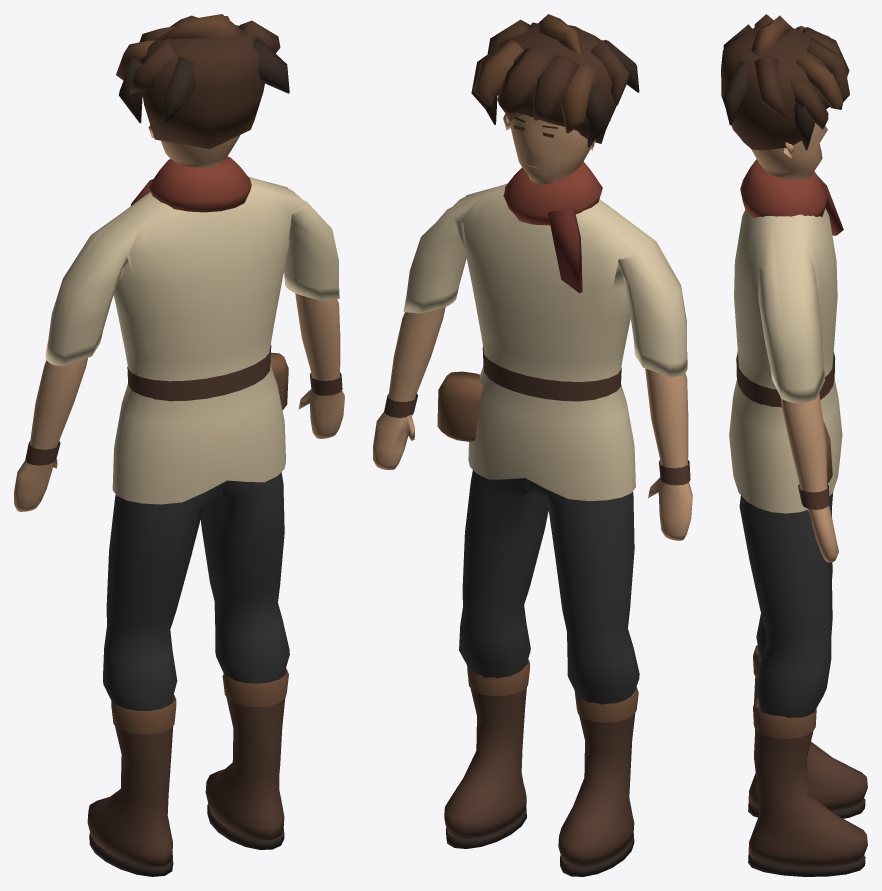
Rendered from adventurer_blockout.glb.
3 views of the same model, side by side, from view 1: azimuth 30°, elevation 25°; view 2: azimuth 150°, elevation 25°; view 3: azimuth 270°, elevation 25° (orthographic). The views are drawn at different scales.
Visible parts, largest first — view 1: Tunic_shoulders_sleeves_CONTINUOUS, Trousers_seat_crotch_legs_CONTINUOUS, Hair_main_mass, Boot_main_-1, Boot_main_1, Forearm_hand_-1, Forearm_hand_1, Scarf_wrap_BLOCKOUT, Belt_BLOCKOUT, Boot_cuff_blockout_1, Boot_cuff_blockout_-1, Hair_crown_sweep (+8 smaller); view 2: Tunic_shoulders_sleeves_CONTINUOUS, Trousers_seat_crotch_legs_CONTINUOUS, Boot_main_1, Boot_main_-1, Forearm_hand_-1, Forearm_hand_1, HeadNeck_continuous, Scarf_wrap_BLOCKOUT, Hair_main_mass, Belt_BLOCKOUT, Pouch_BLOCKOUT, Scarf_tail_BLOCKOUT (+11 smaller); view 3: Tunic_shoulders_sleeves_CONTINUOUS, Trousers_seat_crotch_legs_CONTINUOUS, Boot_main_1, Hair_main_mass, Forearm_hand_1, Scarf_wrap_BLOCKOUT, Boot_main_-1, HeadNeck_continuous, Boot_cuff_blockout_1, Hair_side_sweep_1, Boot_sole_1, Hair_fringe_3 (+10 smaller).
Part boxes in pixels (x1=…): Tunic_shoulders_sleeves_CONTINUOUS: x1=45, y1=176, x2=339, y2=504; Trousers_seat_crotch_legs_CONTINUOUS: x1=103, y1=472, x2=289, y2=710; Hair_main_mass: x1=140, y1=25, x2=264, y2=149; Boot_main_-1: x1=87, y1=726, x2=173, y2=867; Boot_main_1: x1=205, y1=697, x2=284, y2=840; Forearm_hand_-1: x1=14, y1=358, x2=87, y2=511; Forearm_hand_1: x1=295, y1=293, x2=344, y2=438; Scarf_wrap_BLOCKOUT: x1=149, y1=156, x2=251, y2=212; Belt_BLOCKOUT: x1=127, y1=345, x2=271, y2=401; Boot_cuff_blockout_1: x1=222, y1=668, x2=288, y2=707; Boot_cuff_blockout_-1: x1=111, y1=695, x2=176, y2=734; Hair_crown_sweep: x1=160, y1=14, x2=244, y2=40; Tunic_shoulders_sleeves_CONTINUOUS: x1=403, y1=183, x2=687, y2=501; Trousers_seat_crotch_legs_CONTINUOUS: x1=459, y1=470, x2=639, y2=704; Boot_main_1: x1=444, y1=687, x2=526, y2=839; Boot_main_-1: x1=558, y1=713, x2=635, y2=867; Forearm_hand_-1: x1=645, y1=368, x2=692, y2=540; Forearm_hand_1: x1=373, y1=307, x2=445, y2=469; HeadNeck_continuous: x1=510, y1=114, x2=590, y2=184; Scarf_wrap_BLOCKOUT: x1=503, y1=161, x2=602, y2=225; Hair_main_mass: x1=497, y1=25, x2=616, y2=143; Belt_BLOCKOUT: x1=482, y1=347, x2=621, y2=401; Pouch_BLOCKOUT: x1=437, y1=371, x2=483, y2=441; Scarf_tail_BLOCKOUT: x1=548, y1=207, x2=582, y2=293; Tunic_shoulders_sleeves_CONTINUOUS: x1=729, y1=208, x2=842, y2=513; Trousers_seat_crotch_legs_CONTINUOUS: x1=739, y1=492, x2=833, y2=717; Boot_main_1: x1=748, y1=706, x2=867, y2=867; Hair_main_mass: x1=721, y1=26, x2=829, y2=150; Forearm_hand_1: x1=780, y1=393, x2=838, y2=562; Scarf_wrap_BLOCKOUT: x1=740, y1=159, x2=827, y2=217; Boot_main_-1: x1=748, y1=654, x2=867, y2=811; HeadNeck_continuous: x1=751, y1=123, x2=827, y2=179; Boot_cuff_blockout_1: x1=753, y1=697, x2=816, y2=738; Hair_side_sweep_1: x1=754, y1=54, x2=788, y2=118; Boot_sole_1: x1=748, y1=854, x2=865, y2=876; Hair_fringe_3: x1=796, y1=52, x2=842, y2=109.
Size of the model in its own units: 0.762 by 1.86 by 0.3033.
